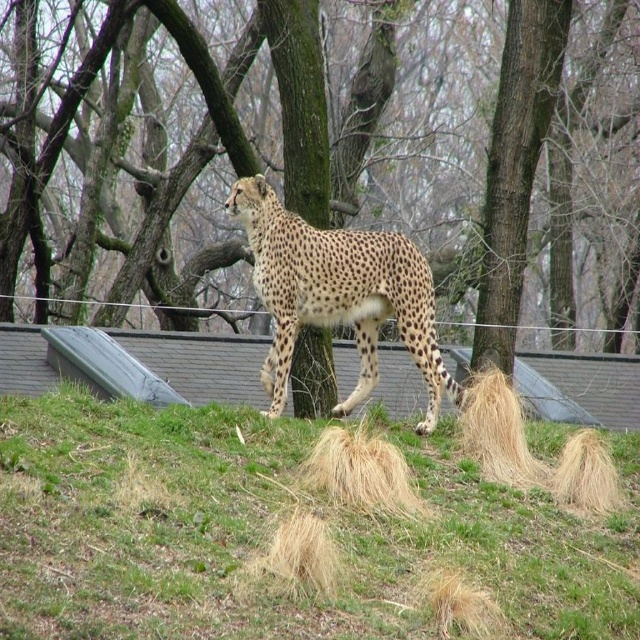Leopard: (224, 173, 477, 436)
